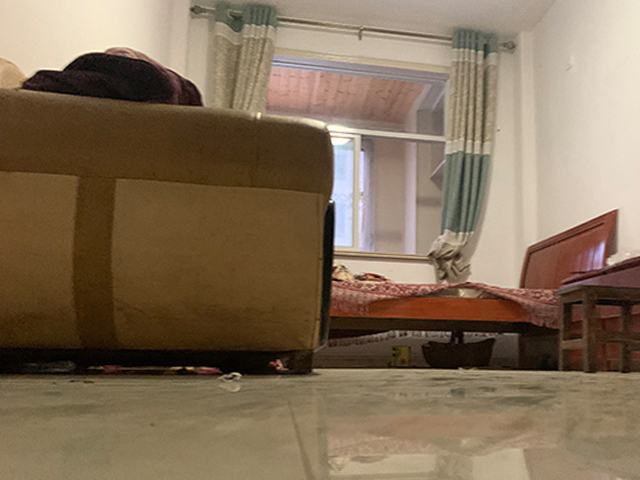bed: (327, 208, 620, 367)
curtain: (428, 26, 495, 285), (207, 5, 278, 112)
sofa: (1, 86, 336, 376)
stool: (556, 284, 640, 376)
